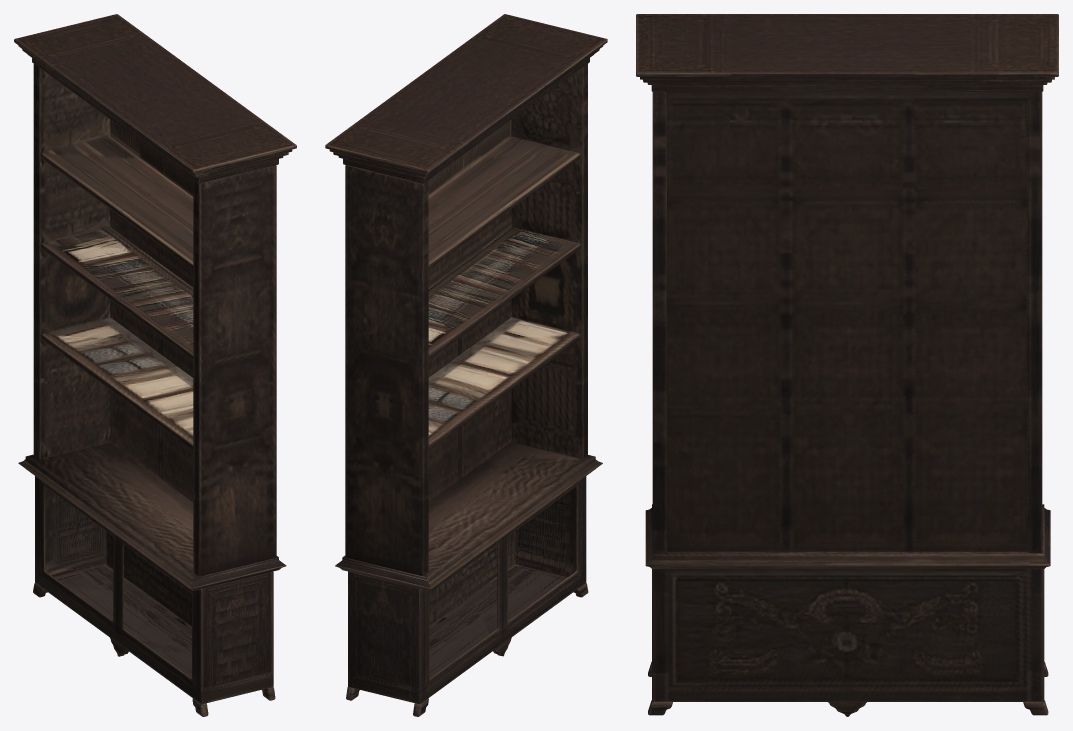
Rendered from Meshy_AI__0501092519_texture.fbx.
3 views of the same model, side by side, from view 1: azimuth 30°, elevation 25°; view 2: azimuth 150°, elevation 25°; view 3: azimuth 270°, elevation 25° (orthographic). The views are drawn at different scales.
Parts seen in each view (by area): view 1: Mesh_0; view 2: Mesh_0; view 3: Mesh_0.
Part boxes in pixels (box(x1,y1,x2,y2)): Mesh_0: box(14, 14, 296, 716); Mesh_0: box(325, 14, 607, 716); Mesh_0: box(636, 14, 1058, 716).
Bounding box in the file's own units: 39.09 × 200 × 117.
1 material, 1 textured.
